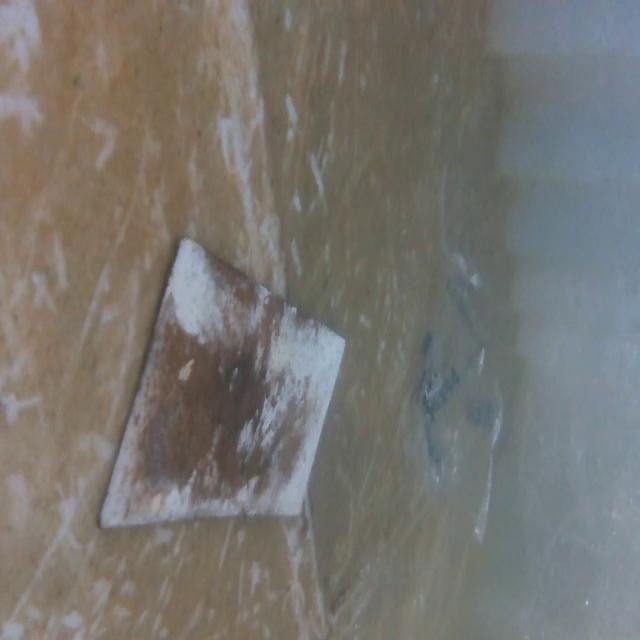metal: (91, 247, 348, 535)
plastic bags: (403, 246, 513, 552), (528, 429, 640, 640)
